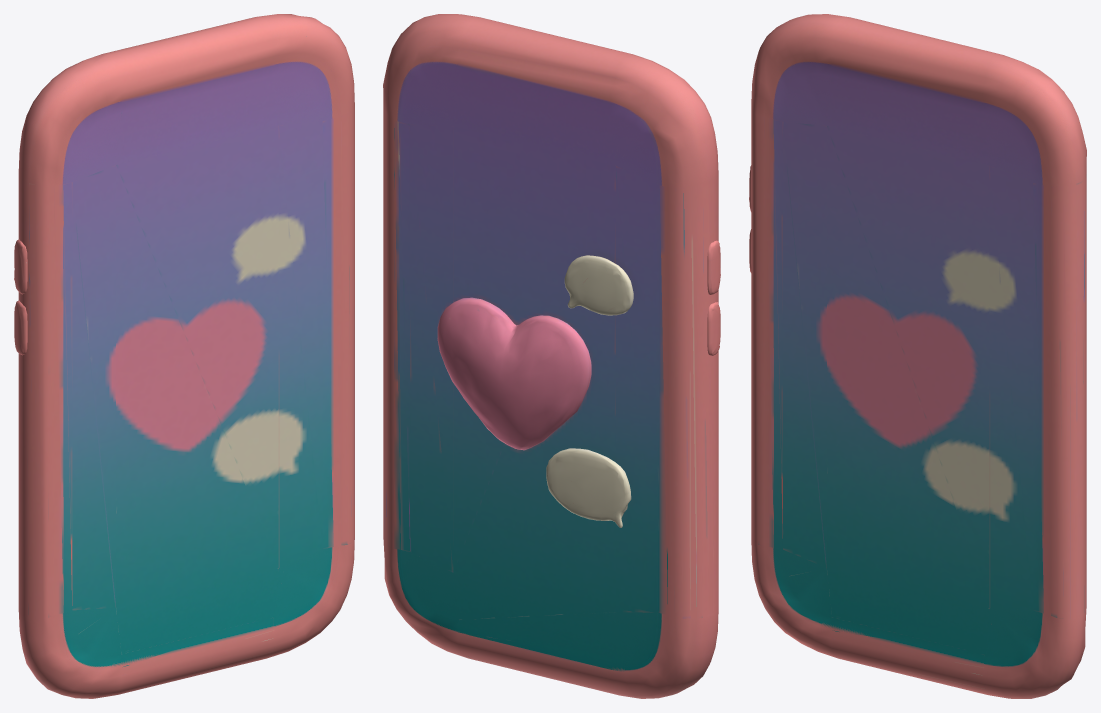
File: phone.glb
3 renders of one model, left to right at view 1: azimuth 30°, elevation 25°; view 2: azimuth 150°, elevation 25°; view 3: azimuth 330°, elevation 25°, orthographic.
Size of the model in its own units: 0.5181 by 0.9512 by 0.1147.
1 material, 1 textured.
